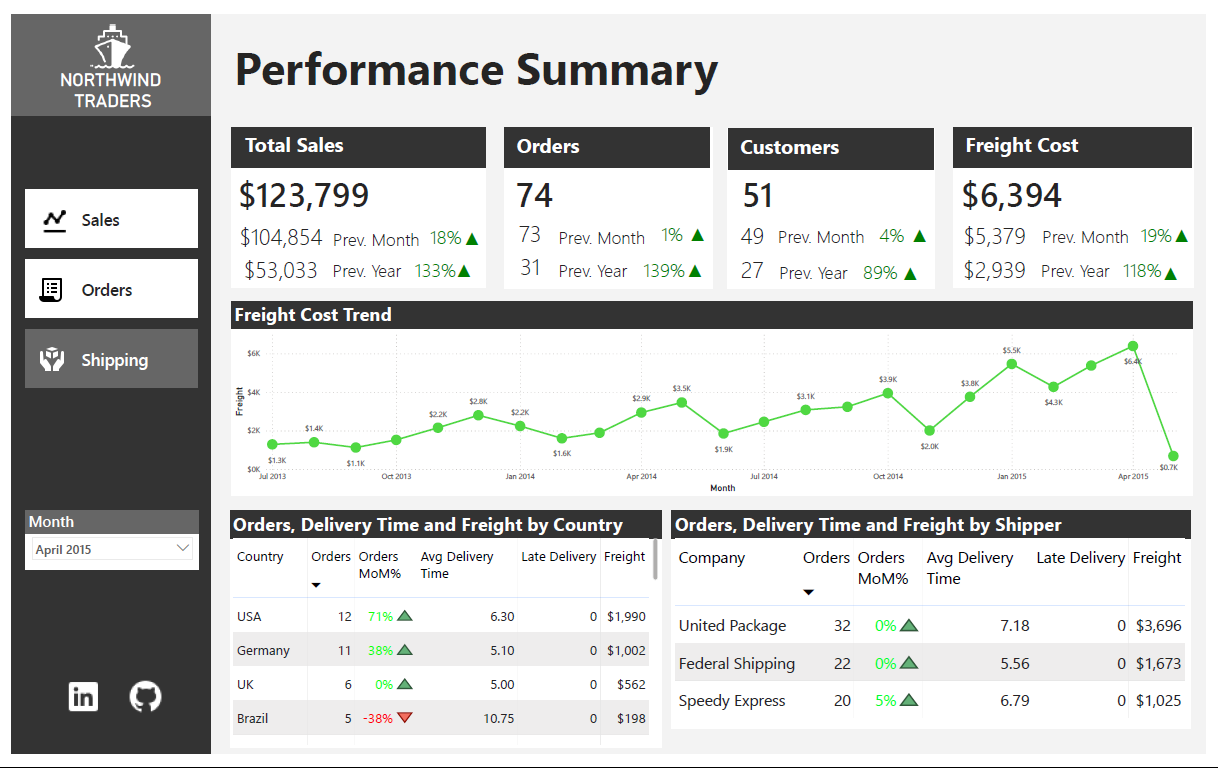

The dashboard page shown, as its layout file describes it:
{"tool":"powerbi","page":{"name":"Shipping","canvas":[1920,1188],"ordinal":2},"visuals":[{"type":"shape","box":[0,162.3,320.3,1088.5],"z":0},{"type":"shape","box":[0,0,320.3,162.3],"z":1000},{"type":"textbox","box":[353,28.9,856.8,117.7],"z":2000},{"type":"shape","box":[352.5,181,409.5,257.1],"z":3000},{"type":"shape","box":[792.2,181.1,335,258.6],"z":4000},{"type":"shape","box":[1152,182.8,333,258.6],"z":5000},{"type":"shape","box":[1514.8,181,386,257.7],"z":6000},{"type":"card","fields":{"Values":["measure_table.sales total"]},"box":[350.7,241.2,235.9,90.9],"z":7000},{"type":"card","fields":{"Values":["measure_table.order total"]},"box":[785.5,244.5,110.4,82.2],"z":8000},{"type":"card","fields":{"Values":["measure_table.customer total"]},"box":[1157.7,253.2,84.4,67.1],"z":9000},{"type":"shape","box":[353.2,180.8,408.8,64],"z":10000},{"type":"shape","box":[792.2,181.1,329.7,64.6],"z":11000},{"type":"shape","box":[1152.8,183,330.5,64.9],"z":12000},{"type":"shape","box":[1514.8,181,383.6,64.9],"z":13000},{"type":"textbox","box":[807.2,181.9,260.1,64],"z":14000},{"type":"textbox","box":[1167.1,183.5,260.1,64],"z":15000},{"type":"textbox","box":[369.7,180.8,260.1,64],"z":16000},{"type":"textbox","box":[1528.8,181.5,260.1,64],"z":17000},{"type":"slicer","title":"Month","fields":{"Values":["DimDate.Date (bins)"]},"box":[21.6,798.5,279.1,93],"z":18000},{"type":"card","fields":{"Values":["measure_table.MoM% Sales"]},"box":[649.3,319.2,97.4,75.7],"z":19000},{"type":"card","fields":{"Values":["measure_table.Icon 1"]},"box":[718.6,343,43.3,32.5],"z":20000},{"type":"card","fields":{"Values":["measure_table.PreviousMonthnetprice"]},"box":[348.6,327.8,168.8,56.3],"z":21000},{"type":"card","fields":{"Values":["measure_table.order MoM%"]},"box":[1023.5,318.1,77.9,69.2],"z":22000},{"type":"card","fields":{"Values":["measure_table.order Icon 1"]},"box":[1082,335.4,43.3,34.6],"z":23000},{"type":"card","fields":{"Values":["measure_table.order PreviousMonth"]},"box":[798.5,324.6,71.4,54.1],"z":24000},{"type":"card","fields":{"Values":["measure_table.customer MoM%"]},"box":[1376.3,322.4,80.1,62.8],"z":25000},{"type":"card","fields":{"Values":["measure_table.customer Icon 1"]},"box":[1439,337.6,43.3,32.5],"z":26000},{"type":"card","fields":{"Values":["measure_table.customer PreviousMonth"]},"box":[1146.9,328.9,88.7,49.8],"z":27000},{"type":"card","fields":{"Values":["measure_table.Text"]},"box":[503.7,340.6,165.2,43.4],"z":28000},{"type":"card","fields":{"Values":["measure_table.Text"]},"box":[865,332.4,169.3,51.6],"z":29000},{"type":"card","fields":{"Values":["measure_table.Text"]},"box":[1216,332.4,173.4,49.5],"z":30000},{"type":"card","fields":{"Values":["measure_table.freight total"]},"box":[1525.6,246.7,166.6,80.1],"z":31000},{"type":"card","fields":{"Values":["measure_table.freight MoM%"]},"box":[1796.1,320.3,90.9,67.1],"z":32000},{"type":"card","fields":{"Values":["measure_table.freight Icon 1"]},"box":[1861,337.6,43.3,34.6],"z":33000},{"type":"card","fields":{"Values":["measure_table.freight PreviousMonth"]},"box":[1510.4,326.8,142.8,56.3],"z":34000},{"type":"card","fields":{"Values":["measure_table.Text"]},"box":[1645.4,332.4,165.2,49.5],"z":35000},{"type":"lineChart","title":"Freight Cost Trend","fields":{"Y":["measure_table.freight total"],"Category":["DimDate.Date (bins)"]},"box":[352.7,461.2,1546.3,313],"z":36000},{"type":"tableEx","title":"Orders, Delivery Time and Freight by Country","fields":{"Values":["customers.country","measure_table.order total","measure_table.order MoM%","measure_table.Avg Shipping time","measure_table.Late delivery","measure_table.freight total"]},"box":[350.6,798.5,694,380.9],"z":37000},{"type":"image","box":[60.6,1060.3,108.2,73.6],"z":38000},{"type":"image","box":[160.1,1060.3,110.4,73.6],"z":39000},{"type":"pageNavigator","title":"Menu","box":[22,281,277,320],"z":40000},{"type":"image","box":[17.3,413.3,93,58.4],"z":41000},{"type":"image","box":[99.5,10.8,123.3,80.1],"z":42000},{"type":"textbox","box":[26,83,272.7,75.7],"z":43000},{"type":"image","box":[17.3,523.7,93,58.4],"z":44000},{"type":"image","box":[21.6,303,93,58.4],"z":45000},{"type":"tableEx","title":"Orders, Delivery Time and Freight by Shipper","fields":{"Values":["shippers.companyName","measure_table.order total","measure_table.order MoM%","measure_table.Avg Shipping time","measure_table.Late delivery","measure_table.freight total"]},"box":[1062.5,798.5,833.1,350.6],"z":46000},{"type":"card","fields":{"Values":["measure_table.sales PreviousYear"]},"box":[357.2,381.9,151.5,54.1],"z":47000},{"type":"card","fields":{"Values":["measure_table.Text 2"]},"box":[489.3,386.1,165.2,51.6],"z":48000},{"type":"card","fields":{"Values":["measure_table.Text 2"]},"box":[852.8,384.8,164.6,53.5],"z":49000},{"type":"card","fields":{"Values":["measure_table.Text 2"]},"box":[1207.8,388.7,164.6,51.6],"z":50000},{"type":"card","fields":{"Values":["measure_table.Text 2"]},"box":[1628.3,386.7,166.6,51.6],"z":51000},{"type":"card","fields":{"Values":["measure_table.order PreviousYear"]},"box":[798.5,376.5,71.4,54.1],"z":52000},{"type":"card","fields":{"Values":["measure_table.customer PreviousYear"]},"box":[1146.9,385.2,88.7,49.8],"z":53000},{"type":"card","fields":{"Values":["measure_table.freight PreviousYear"]},"box":[1510.4,380.9,142.8,56.3],"z":54000},{"type":"card","fields":{"Values":["measure_table.sales YoY%"]},"box":[642.1,371.6,78.5,76.4],"z":55000},{"type":"card","fields":{"Values":["measure_table.sales YoY Icon"]},"box":[706.1,394.3,43.4,33],"z":56000},{"type":"card","fields":{"Values":["measure_table.freight YoY%"]},"box":[1780.2,373.1,77.9,75.7],"z":57000},{"type":"card","fields":{"Values":["measure_table.freight YoY Icon"]},"box":[1842.9,399.1,43.3,32.5],"z":58000},{"type":"card","fields":{"Values":["measure_table.customer YoY%"]},"box":[1358.5,375.7,78.5,76.4],"z":59000},{"type":"card","fields":{"Values":["measure_table.customer YoY Icon"]},"box":[1423.9,400.3,43.3,32.5],"z":60000},{"type":"card","fields":{"Values":["measure_table.order YoY%"]},"box":[1005.5,372.9,87.3,75.4],"z":61000},{"type":"card","fields":{"Values":["measure_table.order YoY Icon"]},"box":[1077.7,394.3,43.4,33],"z":62000}]}

Visuals, with their boxes on the page's 1920x1188 design canvas (x1, y1, x2, y2). These are canvas units, not pixel positions in the 1218x768 screenshot, which may show the page scaled, cropped or inside an application window:
shape: {"left": 0, "top": 162, "right": 320, "bottom": 1251}
shape: {"left": 0, "top": 0, "right": 320, "bottom": 162}
textbox: {"left": 353, "top": 29, "right": 1210, "bottom": 147}
shape: {"left": 352, "top": 181, "right": 762, "bottom": 438}
shape: {"left": 792, "top": 181, "right": 1127, "bottom": 440}
shape: {"left": 1152, "top": 183, "right": 1485, "bottom": 441}
shape: {"left": 1515, "top": 181, "right": 1901, "bottom": 439}
card - measure_table.sales total: {"left": 351, "top": 241, "right": 587, "bottom": 332}
card - measure_table.order total: {"left": 786, "top": 244, "right": 896, "bottom": 327}
card - measure_table.customer total: {"left": 1158, "top": 253, "right": 1242, "bottom": 320}
shape: {"left": 353, "top": 181, "right": 762, "bottom": 245}
shape: {"left": 792, "top": 181, "right": 1122, "bottom": 246}
shape: {"left": 1153, "top": 183, "right": 1483, "bottom": 248}
shape: {"left": 1515, "top": 181, "right": 1898, "bottom": 246}
textbox: {"left": 807, "top": 182, "right": 1067, "bottom": 246}
textbox: {"left": 1167, "top": 184, "right": 1427, "bottom": 248}
textbox: {"left": 370, "top": 181, "right": 630, "bottom": 245}
textbox: {"left": 1529, "top": 182, "right": 1789, "bottom": 246}
"Month" slicer: {"left": 22, "top": 798, "right": 301, "bottom": 892}
card - measure_table.MoM% Sales: {"left": 649, "top": 319, "right": 747, "bottom": 395}
card - measure_table.Icon 1: {"left": 719, "top": 343, "right": 762, "bottom": 376}
card - measure_table.PreviousMonthnetprice: {"left": 349, "top": 328, "right": 517, "bottom": 384}
card - measure_table.order MoM%: {"left": 1024, "top": 318, "right": 1101, "bottom": 387}
card - measure_table.order Icon 1: {"left": 1082, "top": 335, "right": 1125, "bottom": 370}
card - measure_table.order PreviousMonth: {"left": 798, "top": 325, "right": 870, "bottom": 379}
card - measure_table.customer MoM%: {"left": 1376, "top": 322, "right": 1456, "bottom": 385}
card - measure_table.customer Icon 1: {"left": 1439, "top": 338, "right": 1482, "bottom": 370}
card - measure_table.customer PreviousMonth: {"left": 1147, "top": 329, "right": 1236, "bottom": 379}
card - measure_table.Text: {"left": 504, "top": 341, "right": 669, "bottom": 384}
card - measure_table.Text: {"left": 865, "top": 332, "right": 1034, "bottom": 384}
card - measure_table.Text: {"left": 1216, "top": 332, "right": 1389, "bottom": 382}
card - measure_table.freight total: {"left": 1526, "top": 247, "right": 1692, "bottom": 327}
card - measure_table.freight MoM%: {"left": 1796, "top": 320, "right": 1887, "bottom": 387}
card - measure_table.freight Icon 1: {"left": 1861, "top": 338, "right": 1904, "bottom": 372}
card - measure_table.freight PreviousMonth: {"left": 1510, "top": 327, "right": 1653, "bottom": 383}
card - measure_table.Text: {"left": 1645, "top": 332, "right": 1811, "bottom": 382}
"Freight Cost Trend" lineChart: {"left": 353, "top": 461, "right": 1899, "bottom": 774}
"Orders, Delivery Time and Freight by Country" tableEx: {"left": 351, "top": 798, "right": 1045, "bottom": 1179}
image: {"left": 61, "top": 1060, "right": 169, "bottom": 1134}
image: {"left": 160, "top": 1060, "right": 270, "bottom": 1134}
"Menu" pageNavigator: {"left": 22, "top": 281, "right": 299, "bottom": 601}
image: {"left": 17, "top": 413, "right": 110, "bottom": 472}
image: {"left": 100, "top": 11, "right": 223, "bottom": 91}
textbox: {"left": 26, "top": 83, "right": 299, "bottom": 159}
image: {"left": 17, "top": 524, "right": 110, "bottom": 582}
image: {"left": 22, "top": 303, "right": 115, "bottom": 361}
"Orders, Delivery Time and Freight by Shipper" tableEx: {"left": 1062, "top": 798, "right": 1896, "bottom": 1149}
card - measure_table.sales PreviousYear: {"left": 357, "top": 382, "right": 509, "bottom": 436}
card - measure_table.Text 2: {"left": 489, "top": 386, "right": 654, "bottom": 438}
card - measure_table.Text 2: {"left": 853, "top": 385, "right": 1017, "bottom": 438}
card - measure_table.Text 2: {"left": 1208, "top": 389, "right": 1372, "bottom": 440}
card - measure_table.Text 2: {"left": 1628, "top": 387, "right": 1795, "bottom": 438}
card - measure_table.order PreviousYear: {"left": 798, "top": 376, "right": 870, "bottom": 431}
card - measure_table.customer PreviousYear: {"left": 1147, "top": 385, "right": 1236, "bottom": 435}
card - measure_table.freight PreviousYear: {"left": 1510, "top": 381, "right": 1653, "bottom": 437}
card - measure_table.sales YoY%: {"left": 642, "top": 372, "right": 721, "bottom": 448}
card - measure_table.sales YoY Icon: {"left": 706, "top": 394, "right": 750, "bottom": 427}
card - measure_table.freight YoY%: {"left": 1780, "top": 373, "right": 1858, "bottom": 449}
card - measure_table.freight YoY Icon: {"left": 1843, "top": 399, "right": 1886, "bottom": 432}
card - measure_table.customer YoY%: {"left": 1358, "top": 376, "right": 1437, "bottom": 452}
card - measure_table.customer YoY Icon: {"left": 1424, "top": 400, "right": 1467, "bottom": 433}
card - measure_table.order YoY%: {"left": 1006, "top": 373, "right": 1093, "bottom": 448}
card - measure_table.order YoY Icon: {"left": 1078, "top": 394, "right": 1121, "bottom": 427}
